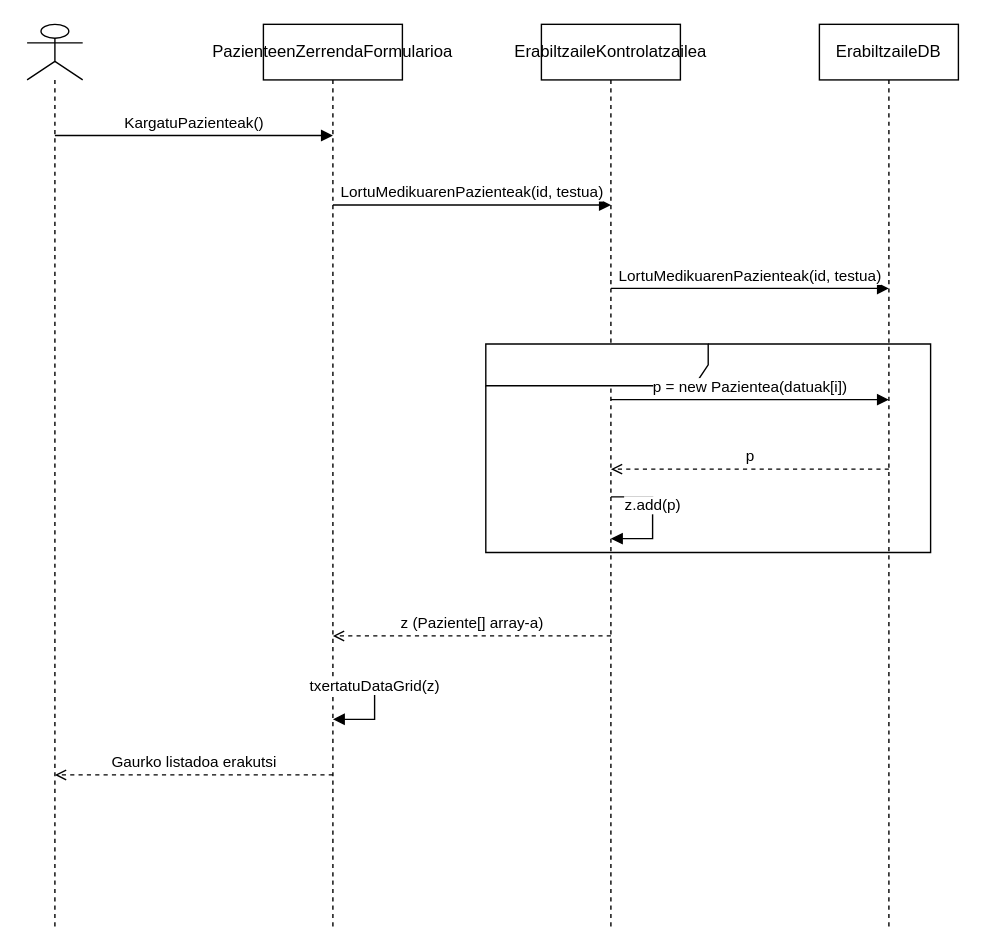
This 983x952 diagram has some shape labels left out. Here are the shapes that lost their labels. From the top down, the box of each, then its label:
(484, 343, 931, 553): loop [i = 0 .. count(datuak)]
(26, 23, 83, 928): Medikua
